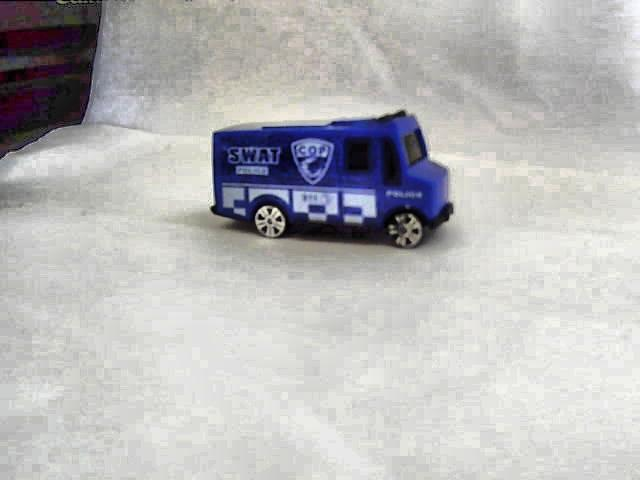police car: (210, 113, 452, 264)
